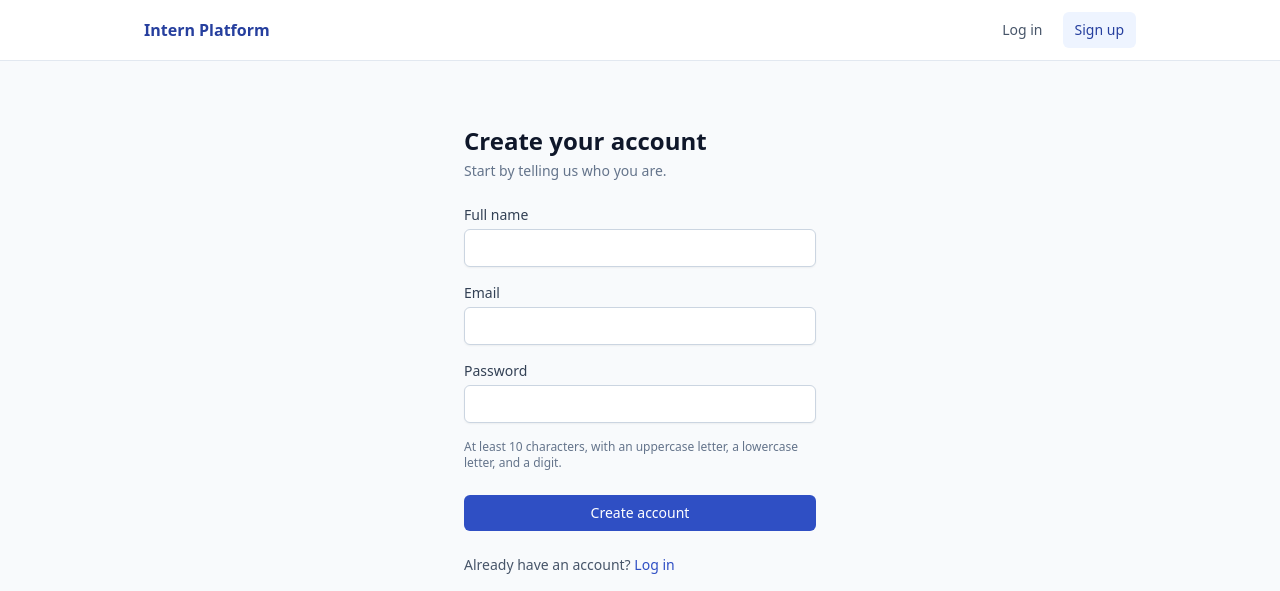
Scenario: App routing + auth › lets a visitor register and land on the dashboard
The image size is (1280, 591).
Expected: the heading "Create your account" is shown, [464,124,707,157]
Type "New Student" into the field labelled "Full name" at (640,248), box [464,229,816,267]
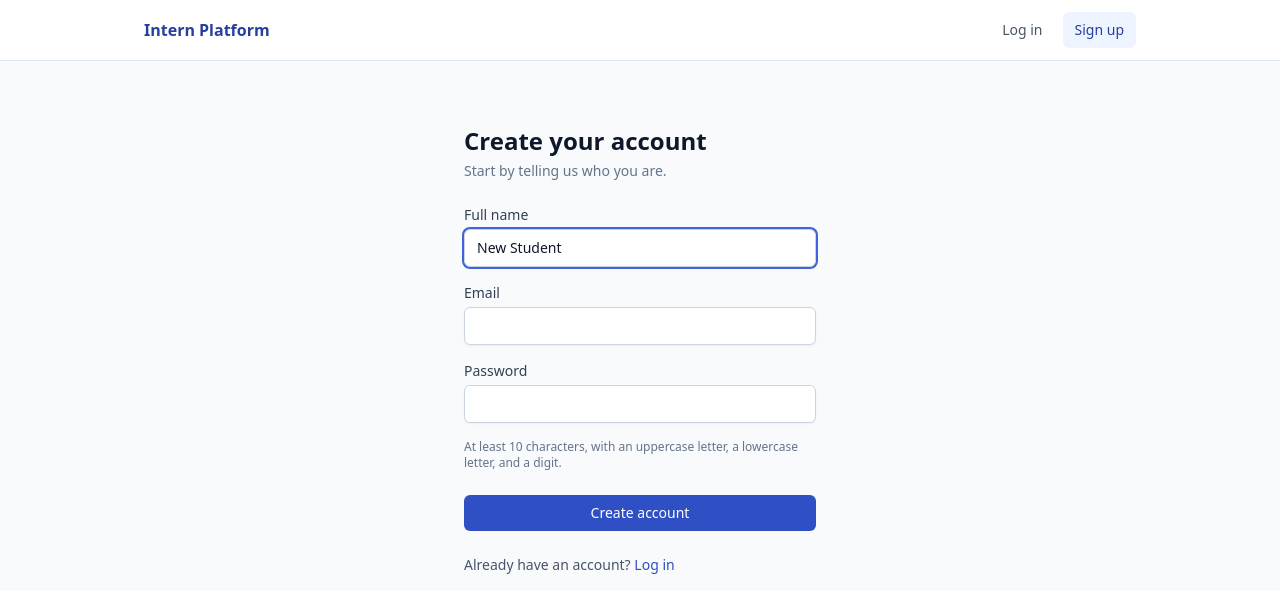
Type "new@example.com" into the field labelled "Email" at (640,326), box [464,307,816,345]
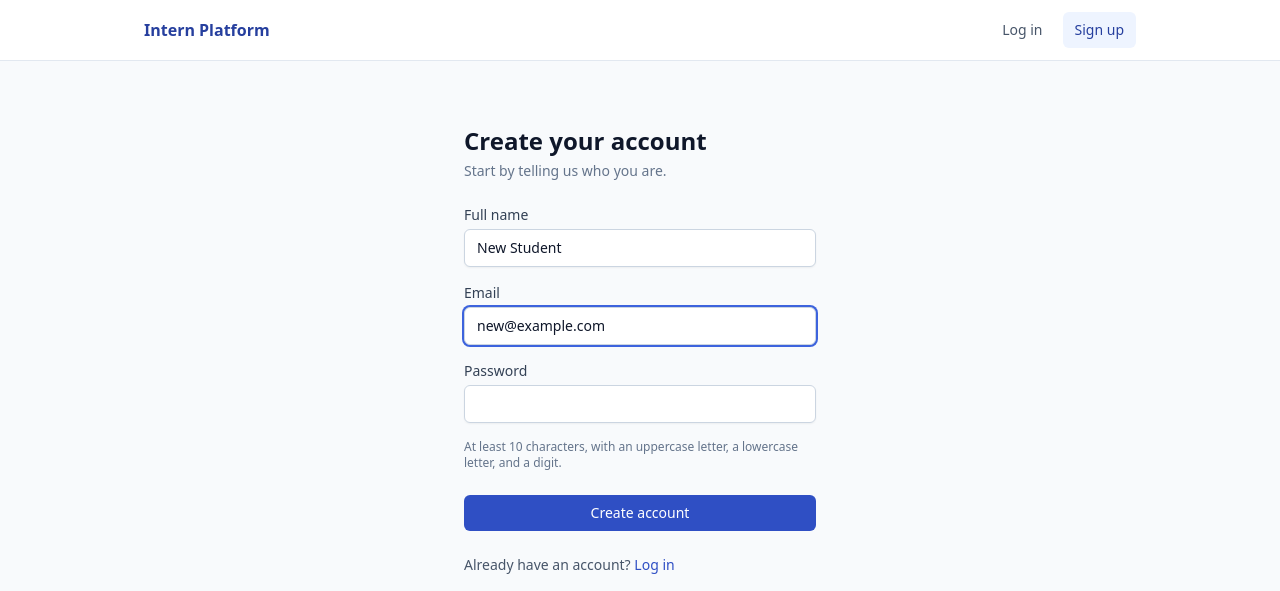
Type "StrongPass1" into the password field labelled "Password" at (640,404), box [464,385,816,423]
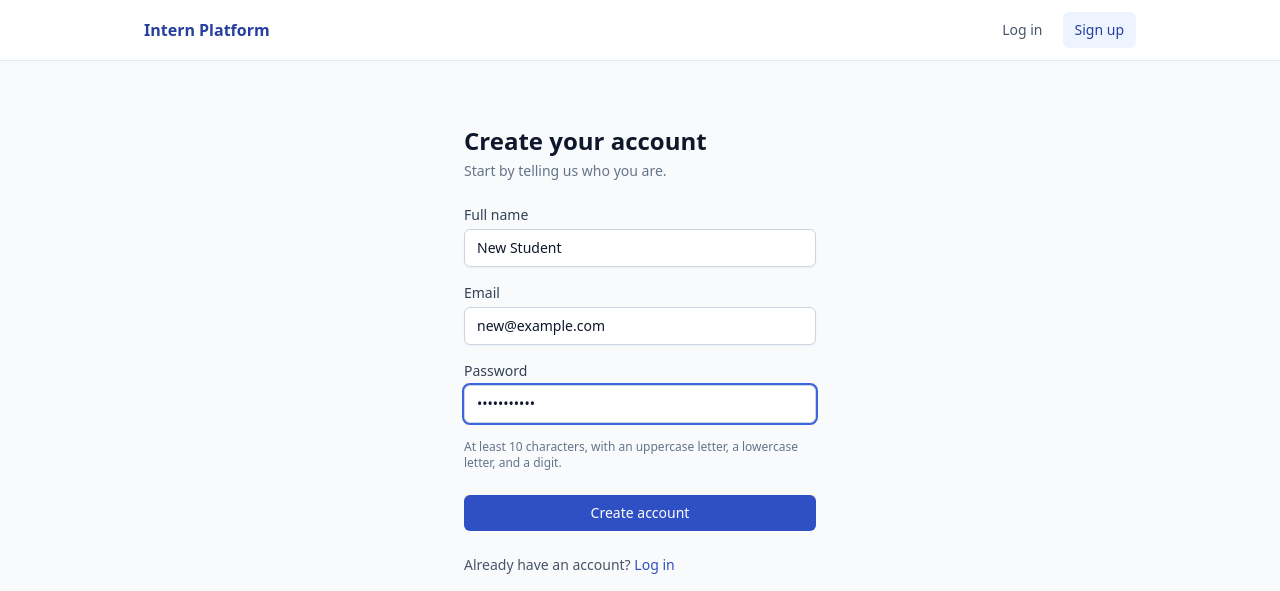
Click the button "Create account" at (640,513), box [464,495,816,531]
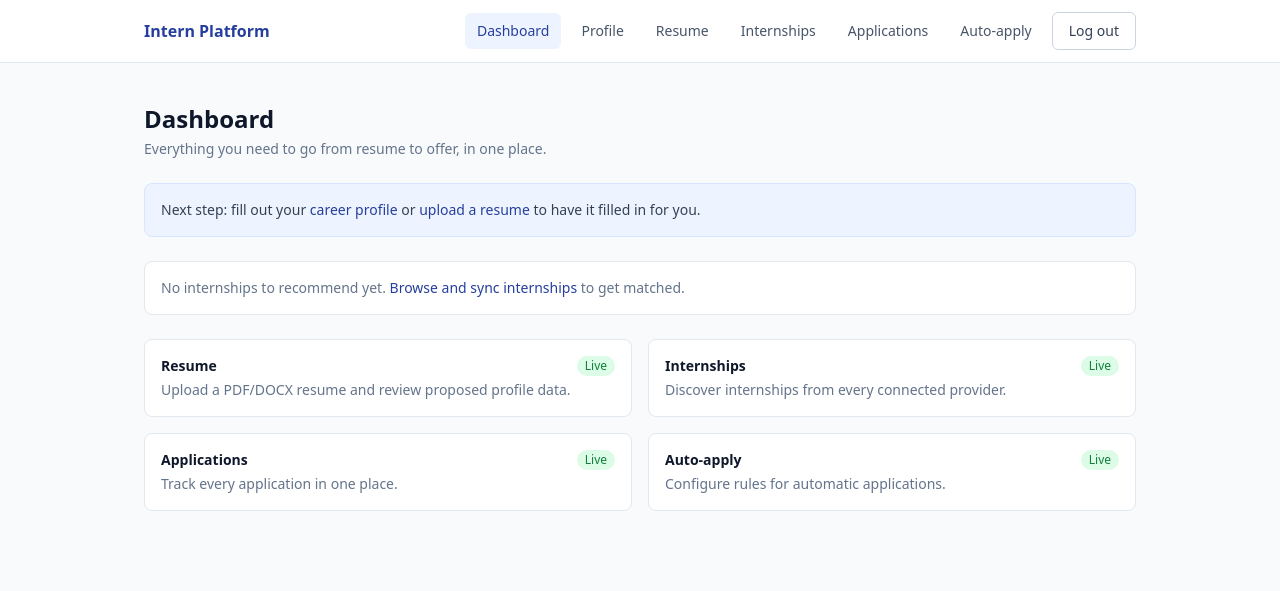
Now the heading "Dashboard" is shown, box [144,102,274,135]
